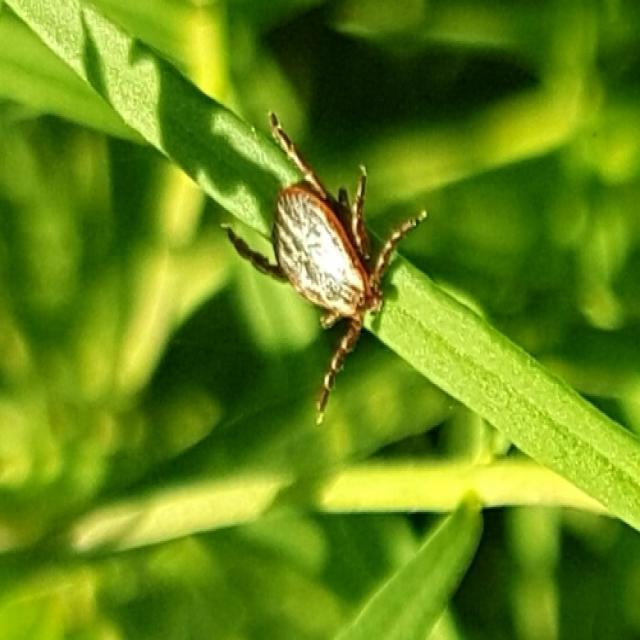Dermacentor Reticulatus-M: (224, 111, 428, 425)
